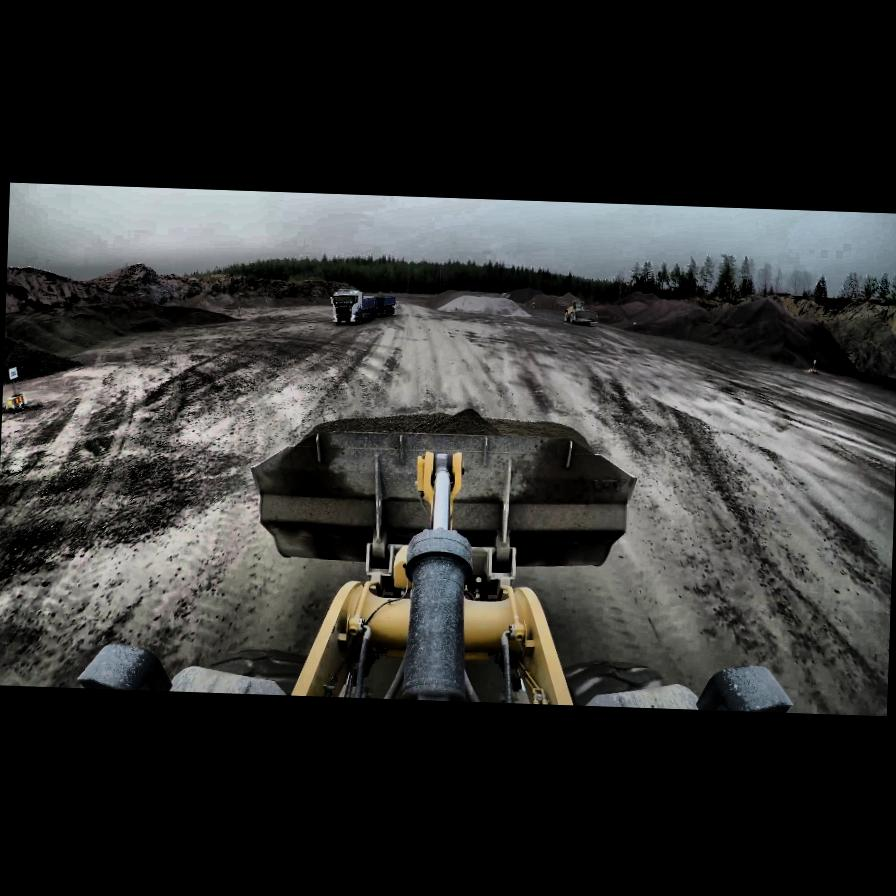anchor: (414, 447, 464, 526)
pile of gravel: (606, 287, 869, 377), (3, 296, 246, 389), (592, 288, 704, 334), (124, 300, 237, 328), (434, 292, 532, 316), (520, 290, 572, 309), (502, 284, 547, 302), (616, 288, 652, 302), (558, 290, 583, 304)
